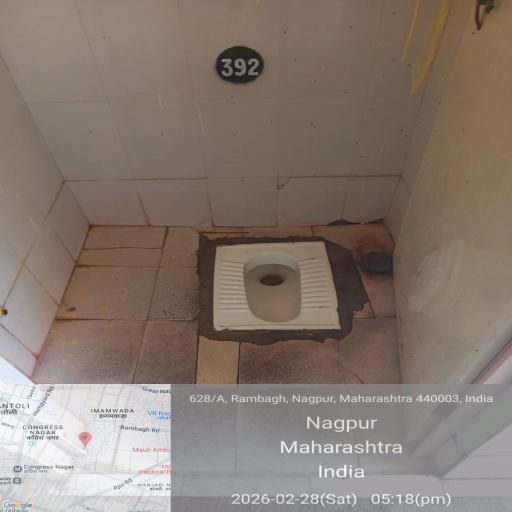clean_floor: (0, 0, 461, 224)
clean_indian: (205, 234, 380, 349)
partial_dirty_floor: (54, 253, 434, 512)
